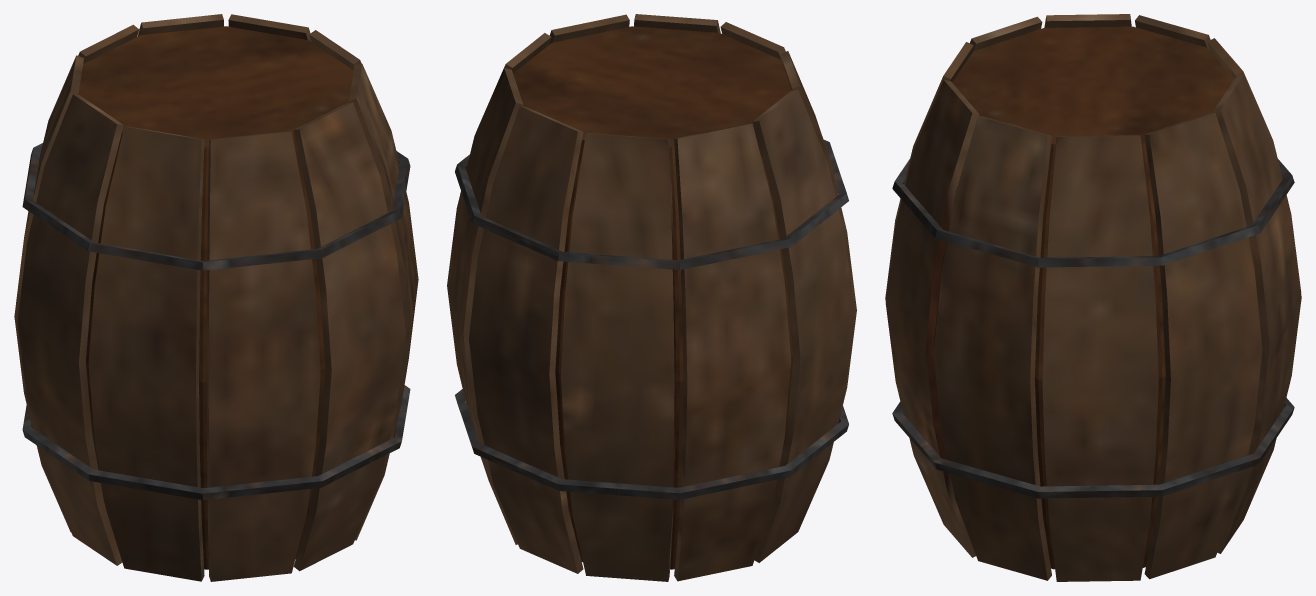
The model's file is Barrel.fbx.
3 renders of one model, left to right at view 1: azimuth 30°, elevation 25°; view 2: azimuth 150°, elevation 25°; view 3: azimuth 270°, elevation 25°, orthographic.
Visible parts, largest first — view 1: barrel; view 2: barrel; view 3: barrel.
Part boxes in pixels (<box>): barrel: <box>14,14,418,581</box>; barrel: <box>447,14,856,581</box>; barrel: <box>885,14,1301,581</box>.
Size of the model in its own units: 0.6678 by 0.8119 by 0.6888.
